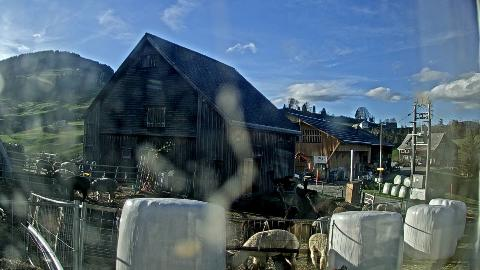car: (359, 171, 375, 181), (390, 166, 400, 172), (418, 162, 426, 166)
sheep: (225, 228, 299, 270), (241, 222, 283, 270), (242, 204, 296, 238), (52, 171, 90, 203), (306, 190, 338, 218), (308, 232, 330, 270), (88, 178, 120, 202), (289, 221, 317, 248), (267, 170, 292, 194), (52, 170, 76, 194), (275, 182, 299, 206), (279, 189, 301, 215), (276, 186, 298, 210), (313, 215, 335, 237), (302, 180, 318, 200), (35, 160, 53, 176), (60, 163, 76, 173), (375, 203, 395, 211), (362, 203, 380, 211), (340, 205, 358, 213), (47, 160, 57, 172), (334, 205, 346, 215), (54, 162, 63, 172), (0, 208, 6, 222)
